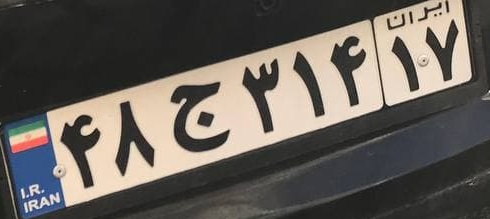character: (163, 78, 233, 152), (56, 110, 108, 194), (107, 100, 160, 178), (238, 54, 286, 137), (328, 33, 371, 110), (288, 46, 326, 119), (424, 18, 461, 84), (386, 30, 423, 93)
